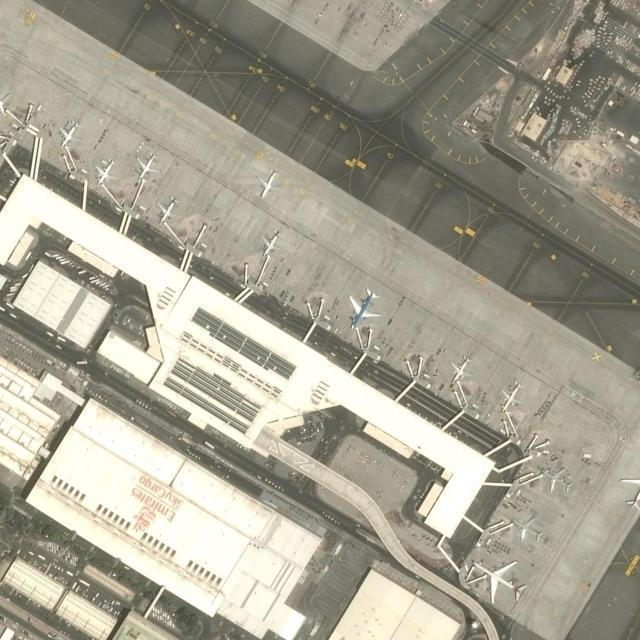Aircraft: (472, 557, 526, 601), (347, 285, 381, 327), (510, 514, 544, 542), (541, 465, 573, 493), (448, 352, 474, 384), (499, 378, 524, 410), (255, 167, 279, 199), (135, 148, 159, 178), (621, 474, 640, 511), (57, 119, 81, 147), (93, 157, 117, 185), (154, 194, 178, 222), (259, 228, 282, 255), (0, 83, 10, 114)
